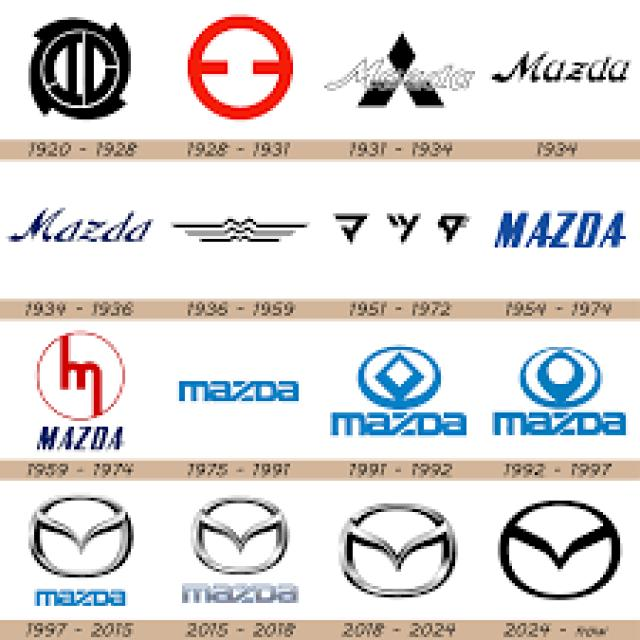mazda: (501, 496, 622, 606), (341, 503, 458, 595), (189, 491, 290, 578), (26, 502, 133, 576)
